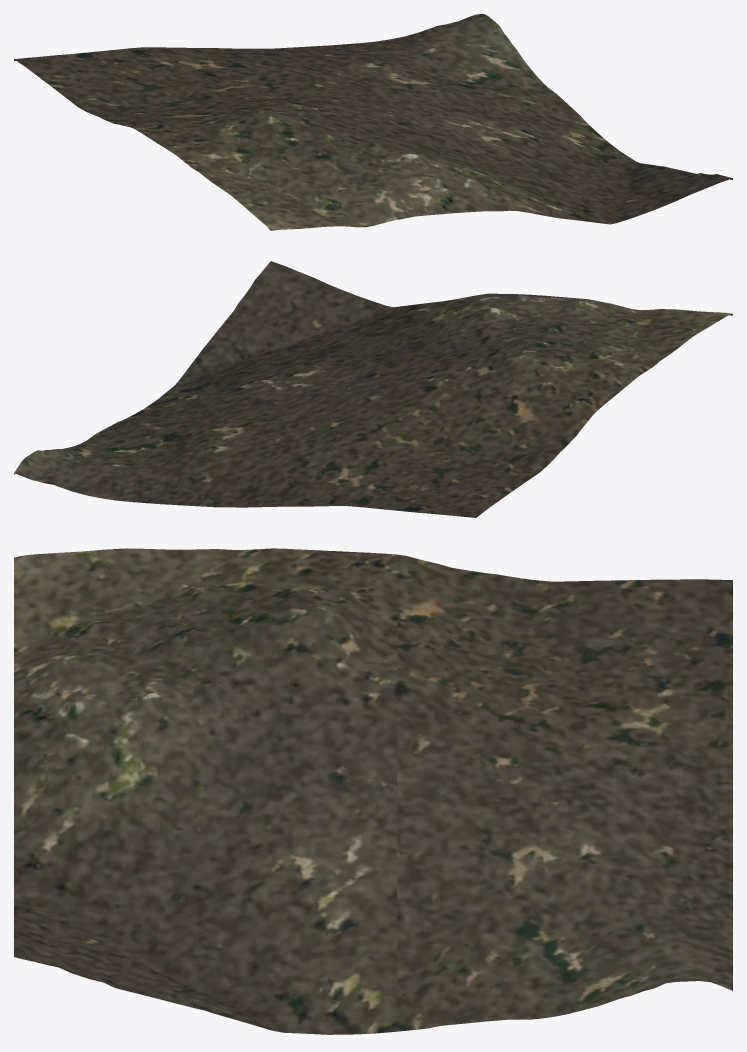
3 views of the same model, one above another, from view 1: azimuth 30°, elevation 25°; view 2: azimuth 150°, elevation 25°; view 3: azimuth 270°, elevation 25° (orthographic). The views are drawn at different scales.
Size of the model in its own units: 250 by 67.73 by 241.
Materials: 1 (1 with a texture image).
